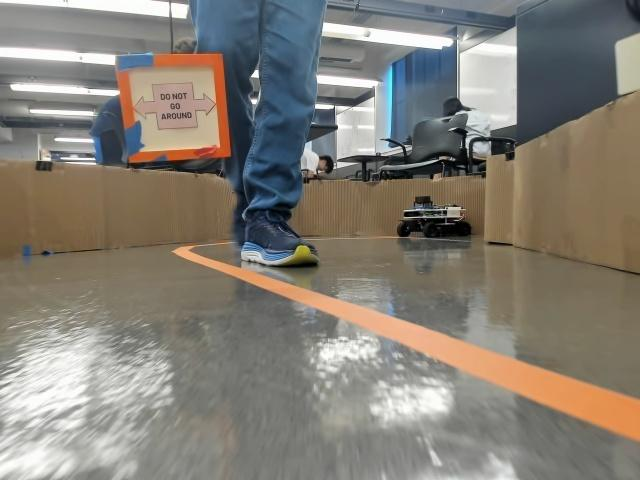Do Not Go Around: (132, 86, 213, 131)
